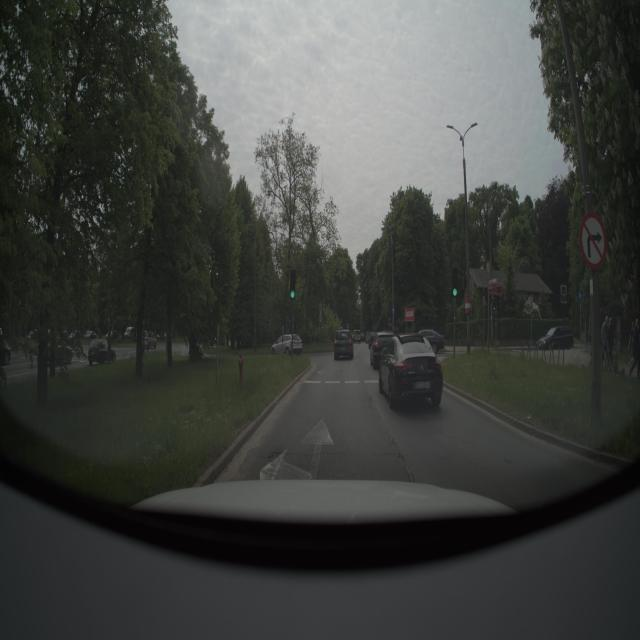green_light: (286, 266, 298, 302), (450, 276, 460, 308)
